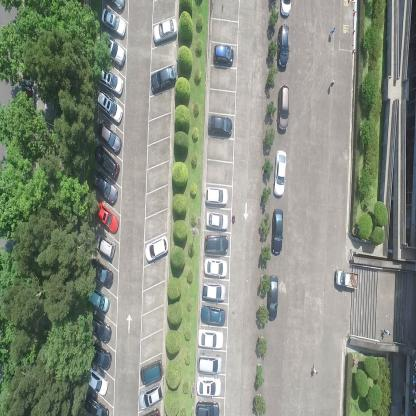car: (90, 168, 118, 204), (95, 90, 123, 124), (96, 119, 122, 154), (93, 200, 119, 235), (149, 63, 177, 95), (100, 35, 126, 69), (93, 145, 119, 179), (100, 7, 126, 38), (98, 66, 124, 95), (87, 314, 112, 344), (90, 258, 113, 290), (144, 235, 170, 263), (138, 382, 163, 411), (276, 22, 290, 73), (152, 17, 177, 45), (273, 149, 287, 198), (87, 366, 109, 397), (140, 358, 164, 386), (88, 343, 112, 371), (93, 232, 116, 261), (277, 82, 289, 135), (334, 266, 358, 291), (198, 328, 224, 351), (271, 207, 283, 255), (200, 304, 225, 327), (84, 392, 109, 415), (197, 352, 223, 374), (196, 376, 222, 398), (87, 287, 109, 313), (212, 44, 235, 68), (208, 114, 232, 136), (205, 185, 229, 207), (202, 281, 226, 303), (204, 235, 229, 256), (206, 211, 230, 232), (268, 273, 278, 322), (204, 258, 228, 278), (194, 398, 220, 416), (279, 0, 291, 19)
